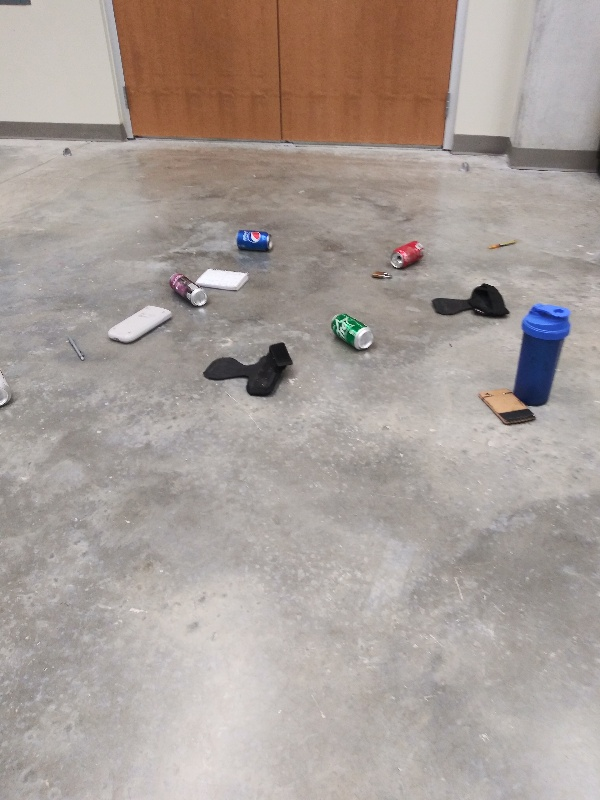can: (325, 308, 378, 355), (166, 270, 212, 310), (387, 238, 429, 274), (232, 226, 276, 253)
